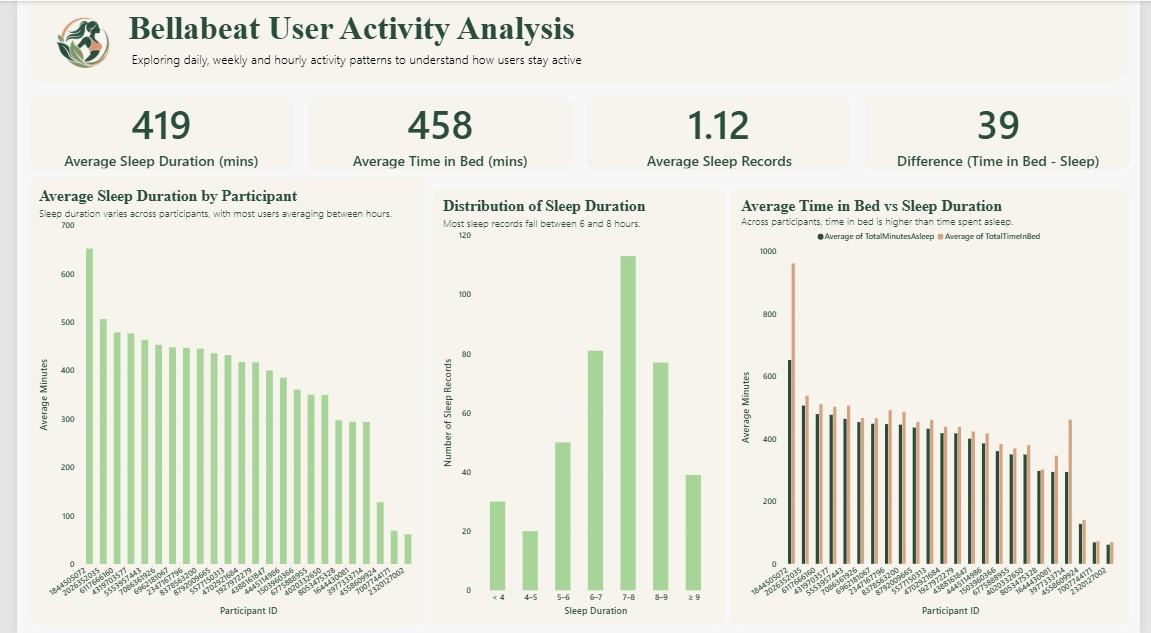

What the dashboard file says about the page in this screenshot:
{"tool":"powerbi","page":{"name":"Page 2","canvas":[1920,1080],"ordinal":1},"visuals":[{"type":"shape","box":[21,0,1878,141.8],"z":0},{"type":"image","box":[44.4,25.6,140.1,92.3],"z":1000},{"type":"textbox","box":[185,85,786.4,30.9],"z":2000},{"type":"textbox","box":[185.4,13.7,774.6,72.2],"z":3000},{"type":"cardVisual","fields":{"Data":["Avg(sleepDay_analysis_ready.TotalMinutesAsleep)"]},"box":[21.2,161.5,450,126.9],"z":4000},{"type":"cardVisual","fields":{"Data":["Avg(sleepDay_analysis_ready.TotalTimeInBed)"]},"box":[497.4,161.5,450,126.9],"z":5000},{"type":"cardVisual","fields":{"Data":["Avg(sleepDay_analysis_ready.TotalSleepRecords)"]},"box":[973.7,161.5,450,126.9],"z":6000},{"type":"cardVisual","fields":{"Data":["sleepDay_analysis_ready.Difference"]},"box":[1450,161.5,450,126.9],"z":7000},{"type":"clusteredColumnChart","title":"Average Sleep Duration by Participant","fields":{"Category":["sleepDay_analysis_ready.Id"],"Y":["sleepDay_analysis_ready.Average Sleep Duration"]},"box":[20.5,302.5,680.1,765.6],"z":8000},{"type":"clusteredColumnChart","title":"Distribution of Sleep Duration","fields":{"Category":["sleepDay_analysis_ready.Sleep Duration Category"],"Y":["CountNonNull(sleepDay_analysis_ready.TotalMinutesAsleep)"]},"box":[710.9,319.6,499,748.5],"z":9000},{"type":"clusteredColumnChart","title":"Average Time in Bed vs Sleep Duration","fields":{"Category":["sleepDay_analysis_ready.Id"],"Y":["Avg(sleepDay_analysis_ready.TotalMinutesAsleep)","Avg(sleepDay_analysis_ready.TotalTimeInBed)"]},"box":[1220.1,319.6,680.1,748.5],"z":10000}]}

Visuals, with their boxes in screenshot pixels (x1, y1, x2, y2), scaled from the page's 1920x1080 canvas onto the 1151x633 screenshot:
shape: bbox=[13, 0, 1138, 83]
image: bbox=[27, 15, 111, 69]
textbox: bbox=[111, 50, 582, 68]
textbox: bbox=[111, 8, 576, 50]
cardVisual - Avg(sleepDay_analysis_ready.TotalMinutesAsleep): bbox=[13, 95, 282, 169]
cardVisual - Avg(sleepDay_analysis_ready.TotalTimeInBed): bbox=[298, 95, 568, 169]
cardVisual - Avg(sleepDay_analysis_ready.TotalSleepRecords): bbox=[584, 95, 853, 169]
cardVisual - sleepDay_analysis_ready.Difference: bbox=[869, 95, 1139, 169]
"Average Sleep Duration by Participant" clusteredColumnChart: bbox=[12, 177, 420, 626]
"Distribution of Sleep Duration" clusteredColumnChart: bbox=[426, 187, 725, 626]
"Average Time in Bed vs Sleep Duration" clusteredColumnChart: bbox=[731, 187, 1139, 626]
